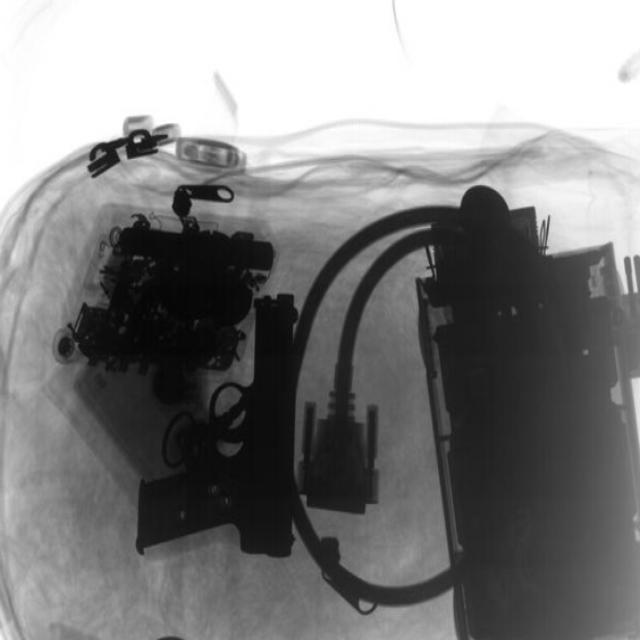GUN: (131, 311, 304, 566)
